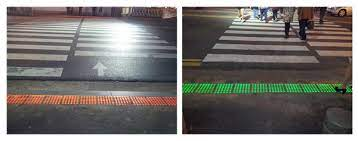guide_blocks: (8, 94, 174, 108), (184, 83, 350, 94)
